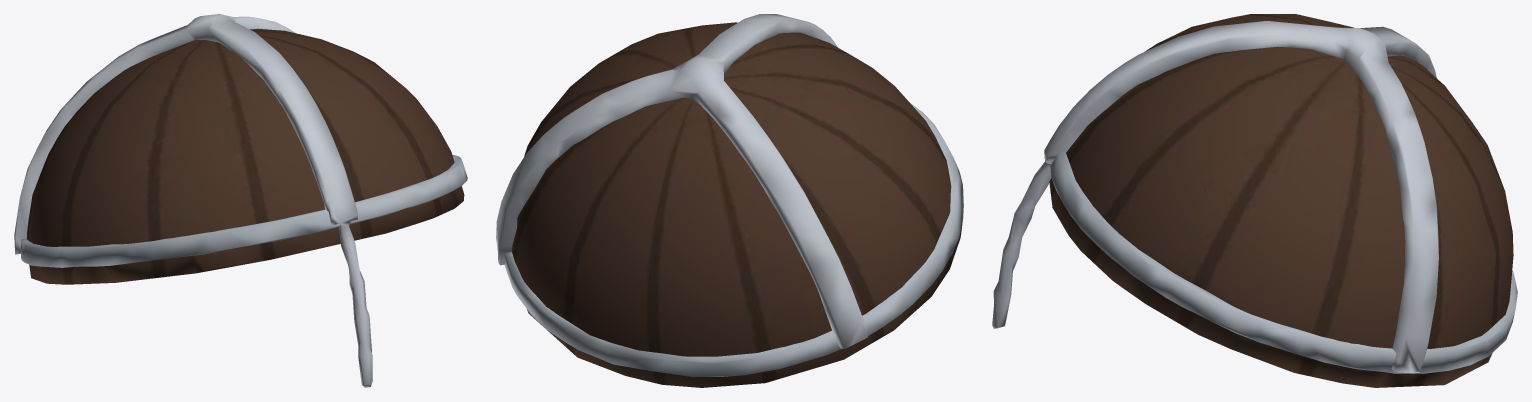
Rendered from fighter-cap.glb.
3 renders of one model, left to right at view 1: azimuth 30°, elevation 25°; view 2: azimuth 150°, elevation 25°; view 3: azimuth 270°, elevation 25°, orthographic. The views are drawn at different scales.
Visible parts, largest first — view 1: cap-band; view 2: cap-band; view 3: cap-band.
Part boxes in pixels (x1,y1,x2,y2): cap-band: [14, 14, 467, 387]; cap-band: [496, 14, 963, 387]; cap-band: [992, 14, 1517, 387].
Bounding box in the file's own units: 0.4824 × 0.3045 × 0.4775.
1 material, 1 textured.
